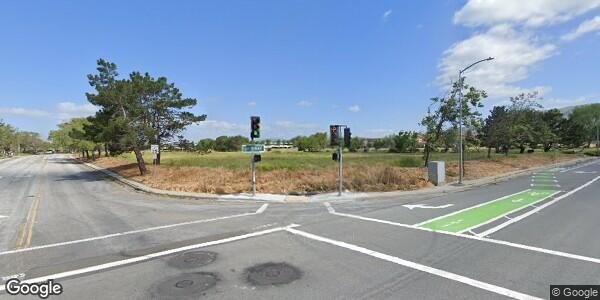Steel_Pole: (454, 51, 496, 190)
